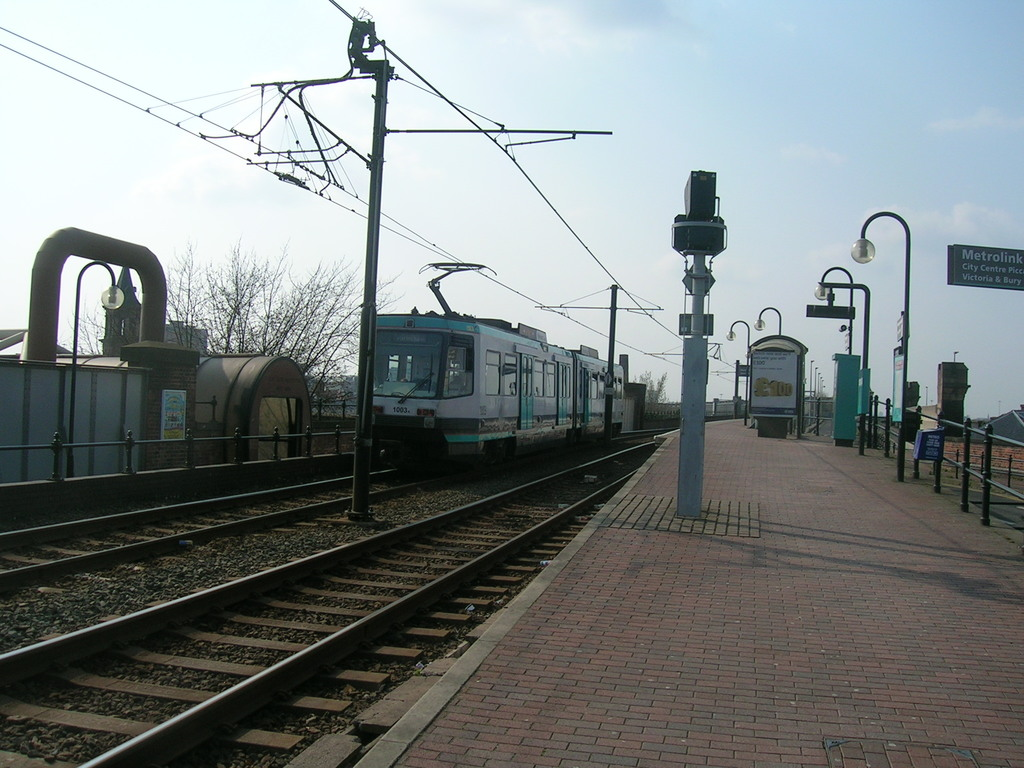train: (373, 256, 625, 465)
